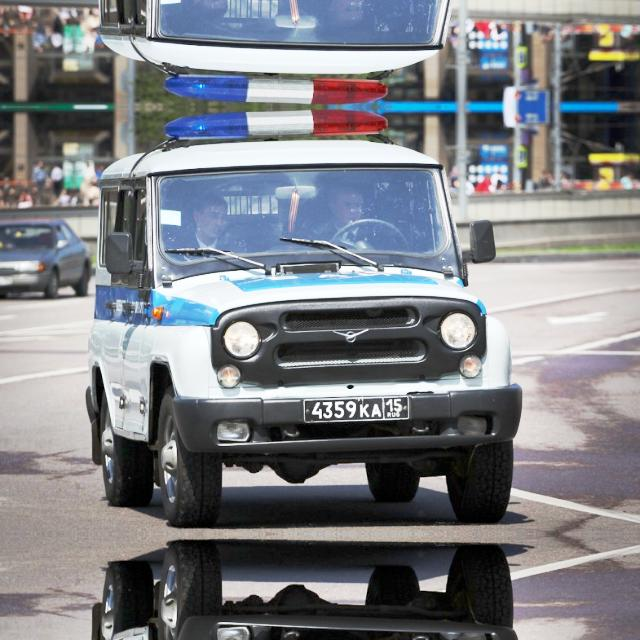military: (300, 391, 414, 427)
